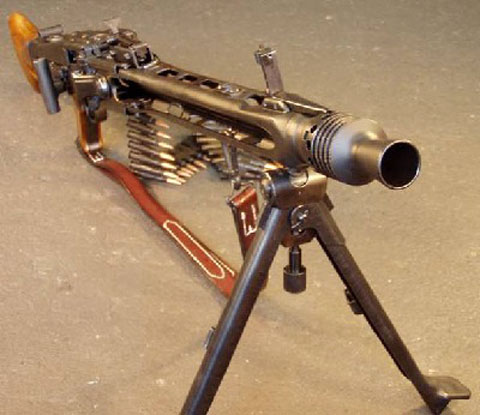rifle: (5, 10, 459, 407)
